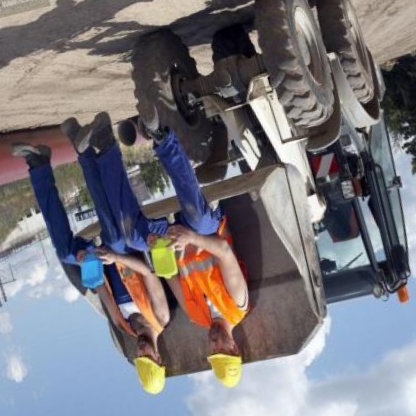vest: (162, 213, 261, 339), (89, 249, 165, 351)
yellow: (127, 348, 175, 403), (201, 344, 249, 395)
